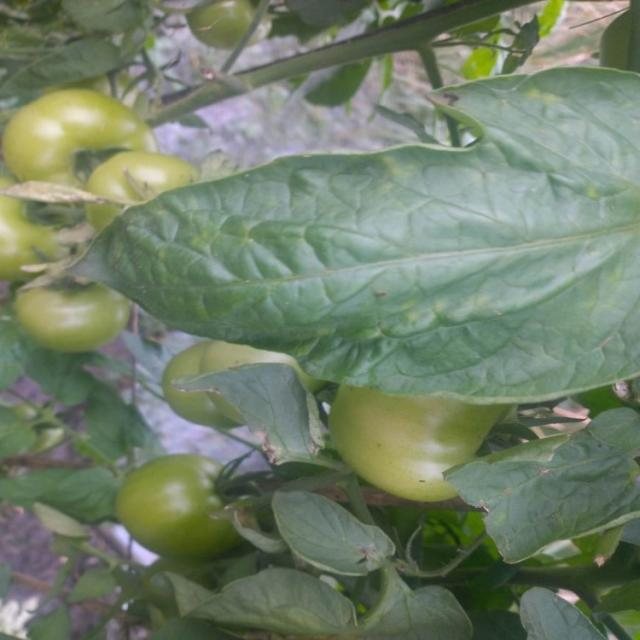tomato: (325, 362, 494, 504), (3, 80, 164, 206), (115, 451, 253, 561), (74, 143, 205, 228), (16, 276, 138, 351), (156, 336, 253, 414), (1, 183, 56, 281), (189, 1, 265, 56)
